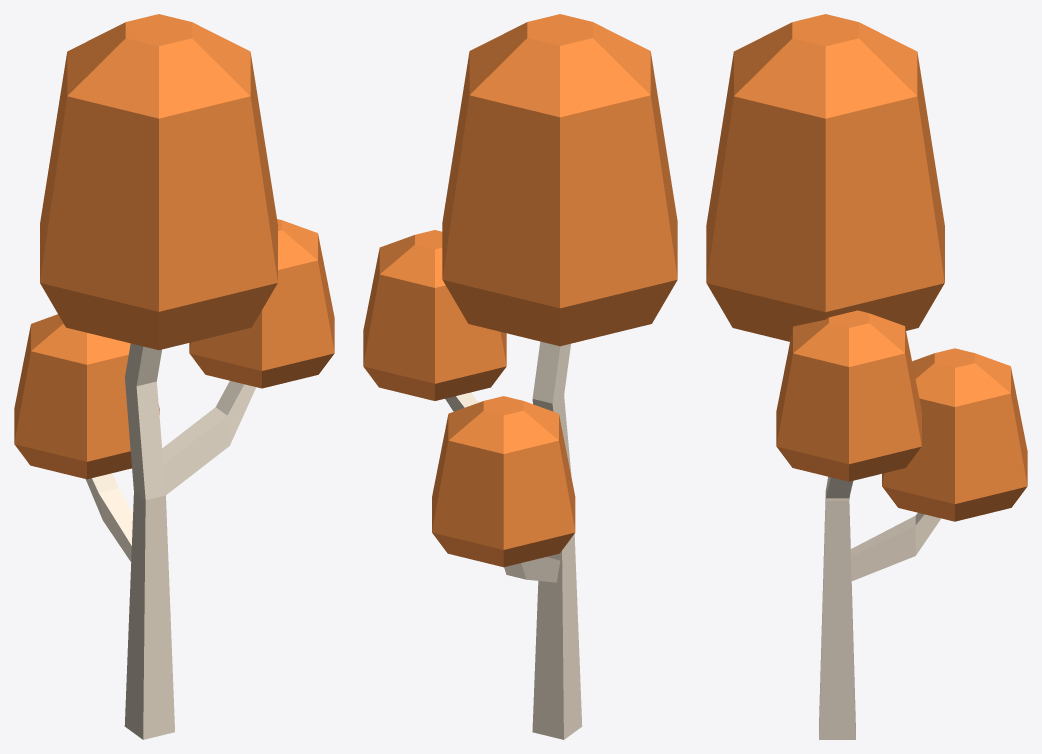
File: tree_thin_fall.dae
3 renders of one model, left to right at view 1: azimuth 30°, elevation 25°; view 2: azimuth 150°, elevation 25°; view 3: azimuth 270°, elevation 25°, orthographic.
Parts seen in each view (by area): view 1: tree_thin_fall; view 2: tree_thin_fall; view 3: tree_thin_fall.
Boxes of the visible parts, x1,y1,x2,y2 form: tree_thin_fall: [14, 14, 334, 739]; tree_thin_fall: [363, 14, 677, 739]; tree_thin_fall: [706, 14, 1027, 739].
Bounding box in the file's own units: 0.6804 × 1.49 × 0.6165.
